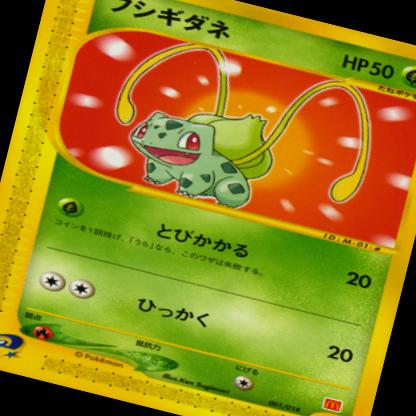Bulbasaur: (117, 84, 290, 217)
